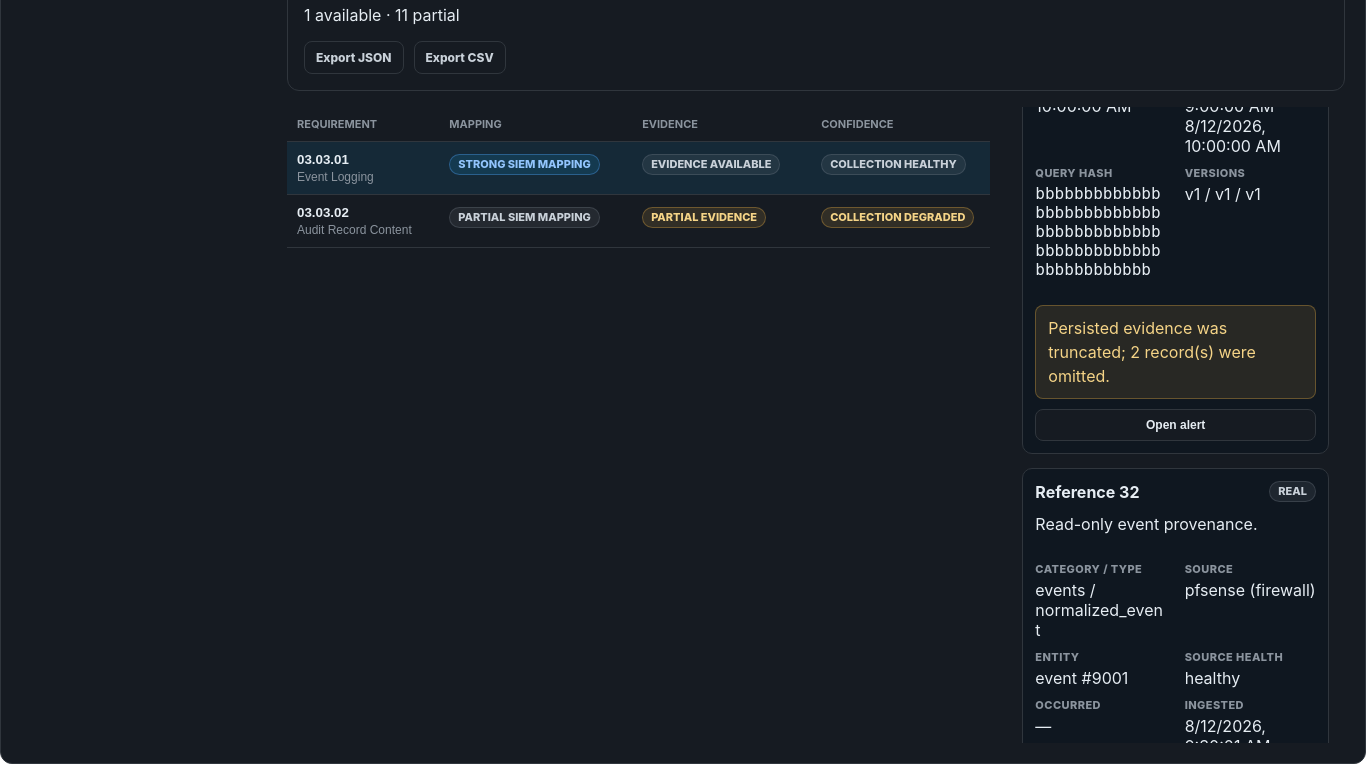
Scenario: renders persisted workspace, exact three-dimensional statuses, provenance, and bounded exports
(page scrolled)
Check: the text "Event Logging" is shown, box [297, 170, 374, 184]
Check: the text "Strong SIEM mapping" is shown, box [449, 154, 600, 175]
Click the button "Open alert". click: (1176, 425)
box: [1035, 409, 1316, 441]
(page scrolled)
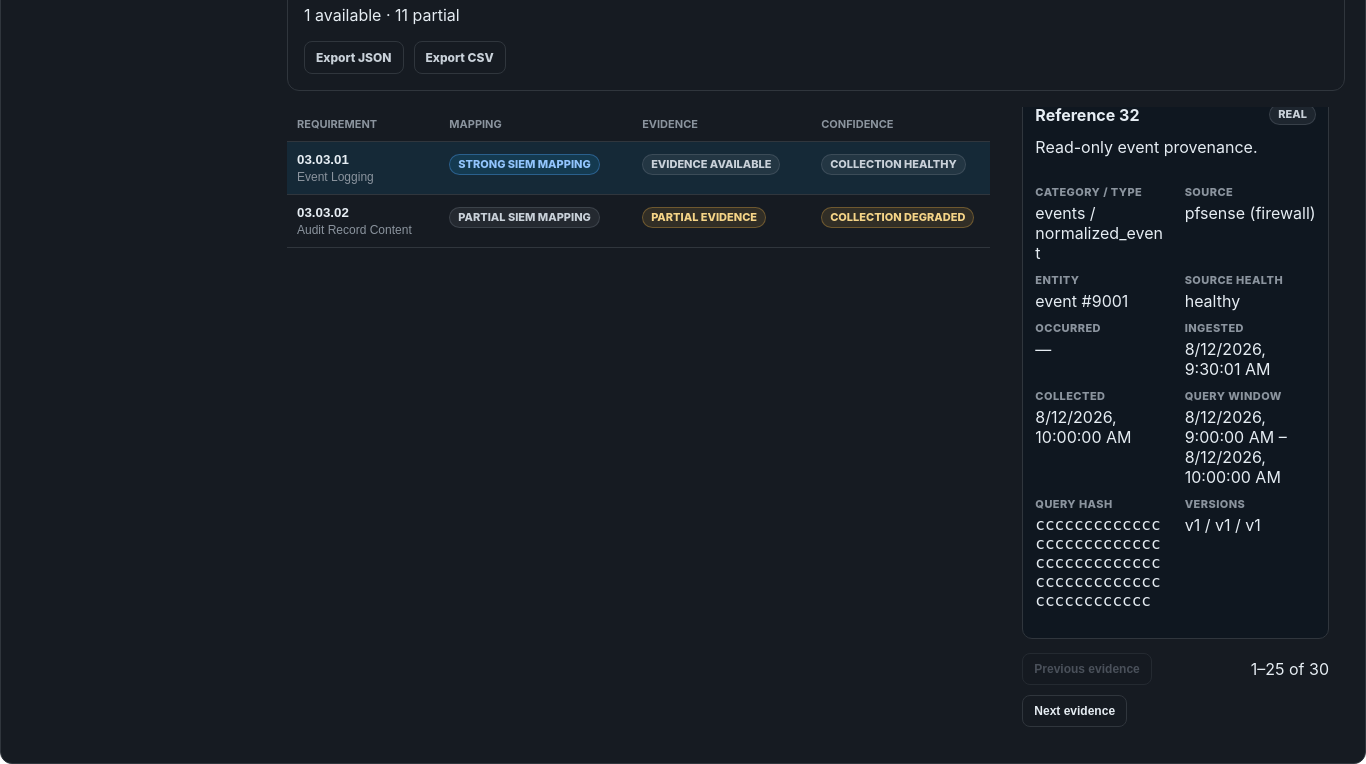
Click the button "Next evidence". click: (1075, 711)
box: [1022, 695, 1127, 727]
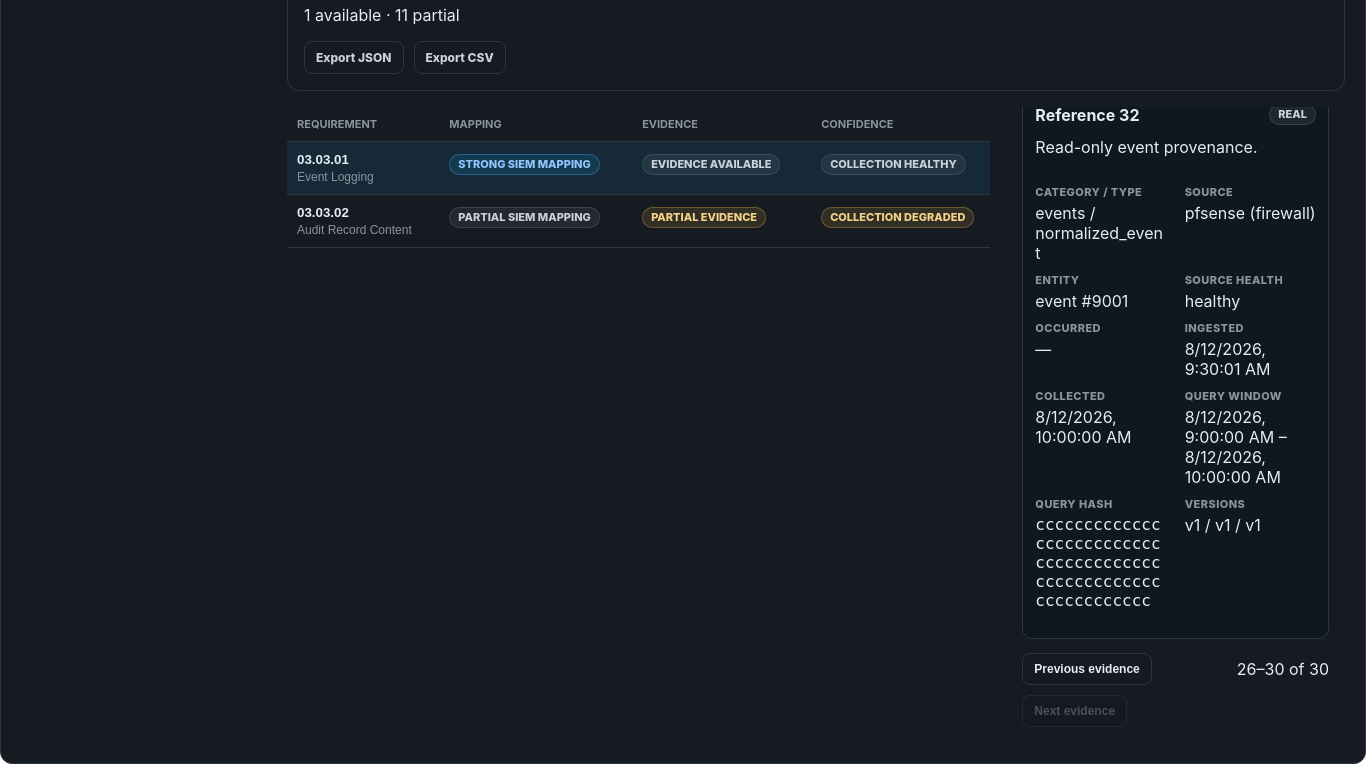
Check: the text "26–30 of 30" is shown, box [1237, 659, 1329, 679]
